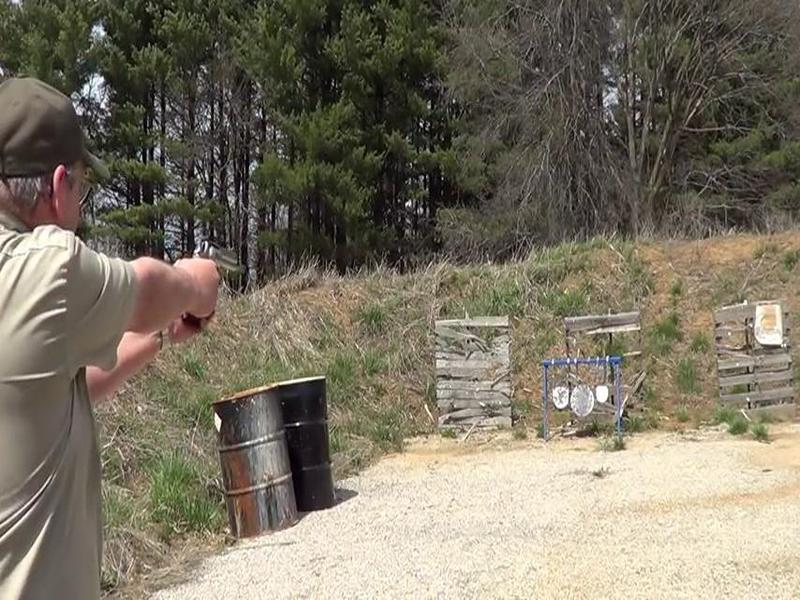Revolver: (187, 236, 260, 344)
